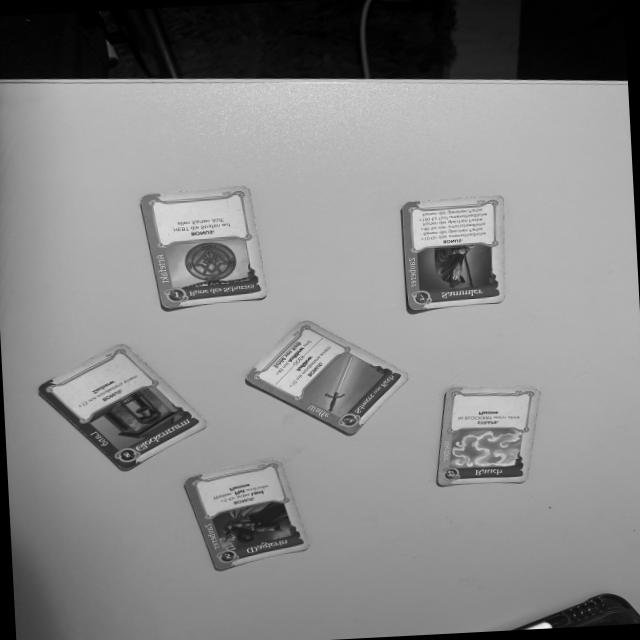Clock Tower: (32, 338, 213, 476)
Collector: (399, 195, 509, 315)
Elemental Enchantress: (178, 457, 310, 574)
Rune Of Protection: (140, 183, 271, 313)
Smoke: (432, 385, 545, 488)
Sword of Keth: (239, 317, 411, 439)
